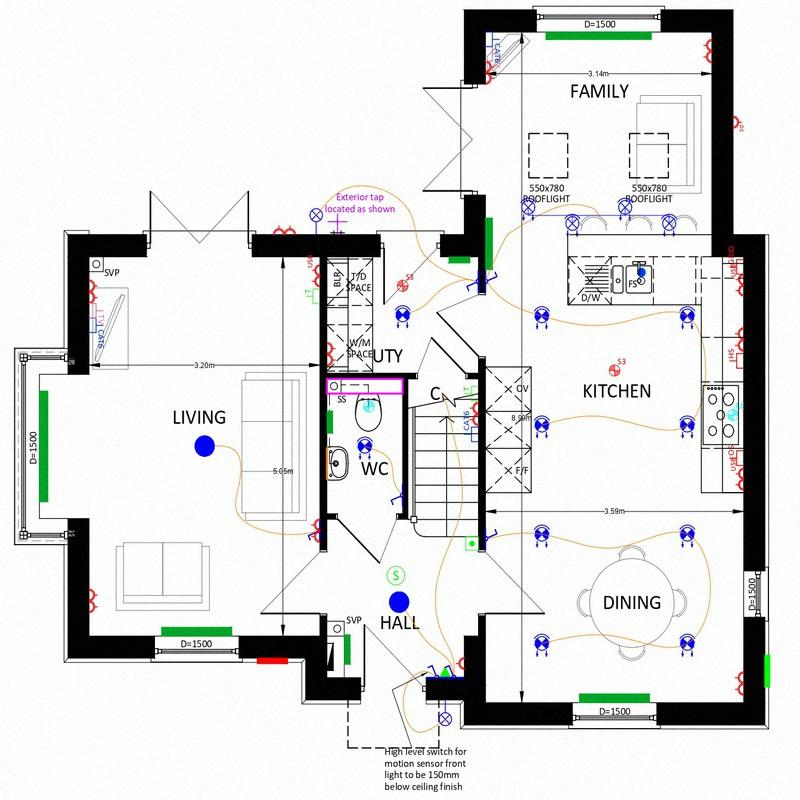BT Entry Point: (440, 665, 448, 678)
Cat 6 Data Socket: (463, 410, 478, 442), (89, 317, 104, 348), (486, 32, 501, 62)
Ceiling Mounted Continuous Extract FanWith Boost Mode Activated By Light Switch: (363, 401, 375, 411)
Ceiling Mounted Continuous Extract FanWith Local Boost Switch: (609, 358, 626, 377), (398, 273, 413, 292)
Co-Ax TV Socket: (89, 302, 104, 324), (486, 47, 500, 67)
Consumer Unit: (327, 642, 334, 671)
Double Socket: (734, 327, 744, 351), (703, 39, 712, 64), (734, 672, 743, 696), (327, 342, 336, 366), (470, 401, 479, 425), (89, 589, 98, 613), (89, 280, 98, 304), (273, 225, 296, 234), (486, 62, 495, 84), (311, 519, 319, 543)
Electric Meter Box: (256, 657, 288, 665)
External Wall Light: (439, 699, 452, 726), (310, 208, 322, 235)
Gas Meter Box: (764, 654, 770, 687)
Grid Switch: (729, 246, 743, 274)
Hob Switch: (727, 348, 743, 369)
Light Switch: (485, 529, 499, 541), (390, 492, 402, 506), (486, 271, 498, 284), (444, 665, 456, 677), (466, 280, 479, 291), (427, 665, 438, 677), (308, 531, 320, 542)
Low Energy Downlighter: (356, 436, 374, 460), (533, 633, 550, 657), (533, 306, 550, 330), (679, 633, 695, 657), (534, 524, 550, 548), (679, 306, 695, 330), (534, 415, 550, 438), (680, 524, 695, 548), (395, 305, 410, 328), (680, 415, 695, 438)
Low Energy Pendant Light: (389, 591, 410, 613), (194, 435, 215, 457)
Mains Wired Smoke Detector: (386, 566, 404, 586)
Outside Socket: (733, 116, 744, 132)
Outside Tap: (328, 214, 347, 233)
Oven Switch: (728, 445, 743, 466)
Programmable Room Thermostat: (466, 536, 477, 551)
Radiator: (39, 390, 48, 503), (546, 32, 652, 40), (161, 626, 232, 637), (579, 693, 650, 703), (486, 217, 492, 270), (344, 634, 351, 665), (448, 257, 469, 264), (327, 411, 333, 434)
Single Socket: (454, 658, 464, 669)
Telephone Socket: (304, 287, 319, 303), (464, 385, 478, 401)
Track Light: (521, 198, 678, 236)
USB Double Socket: (307, 256, 319, 287), (732, 266, 744, 297), (732, 460, 743, 490)
Water Entry Position: (637, 268, 646, 277)
